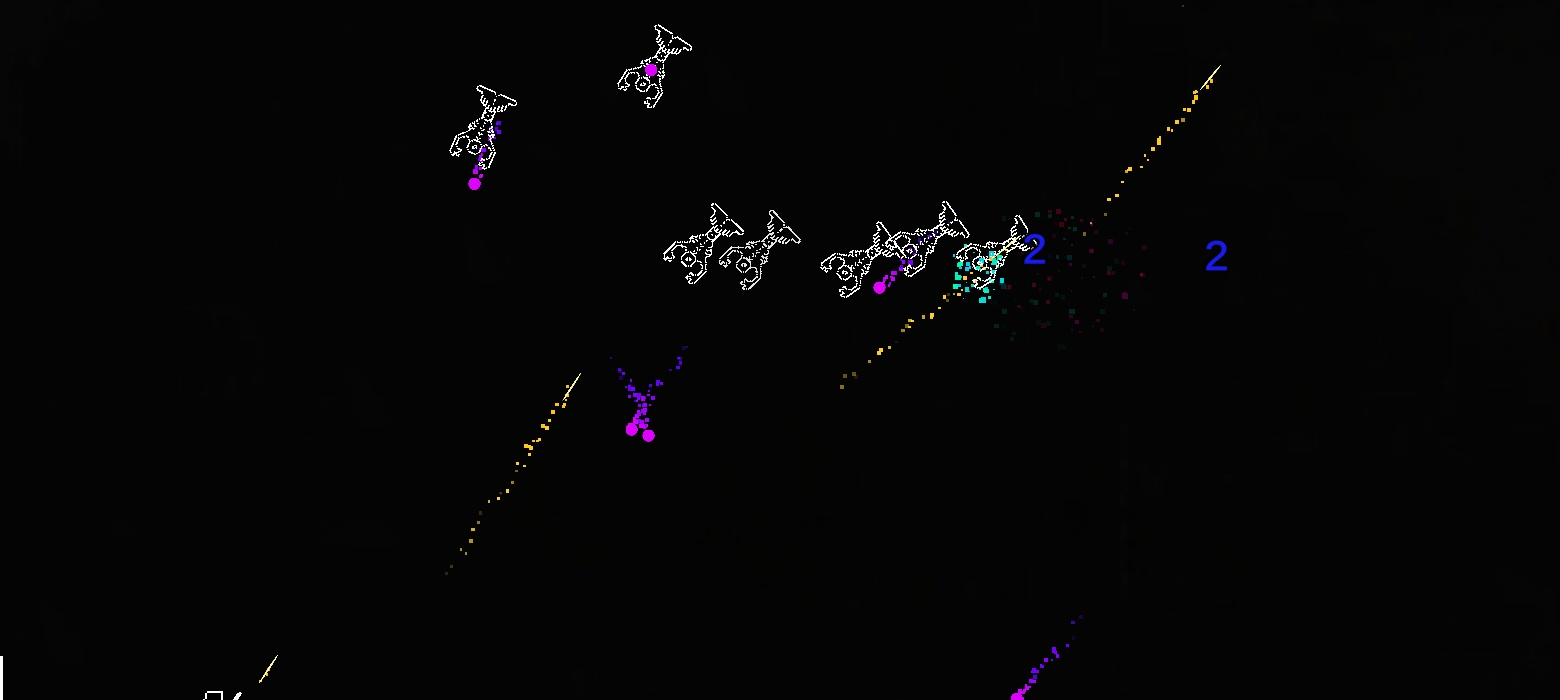enemy: (662, 202, 744, 285), (718, 209, 801, 291), (820, 220, 904, 299), (885, 200, 970, 277), (617, 24, 693, 109), (956, 214, 1041, 290), (449, 85, 518, 170)
